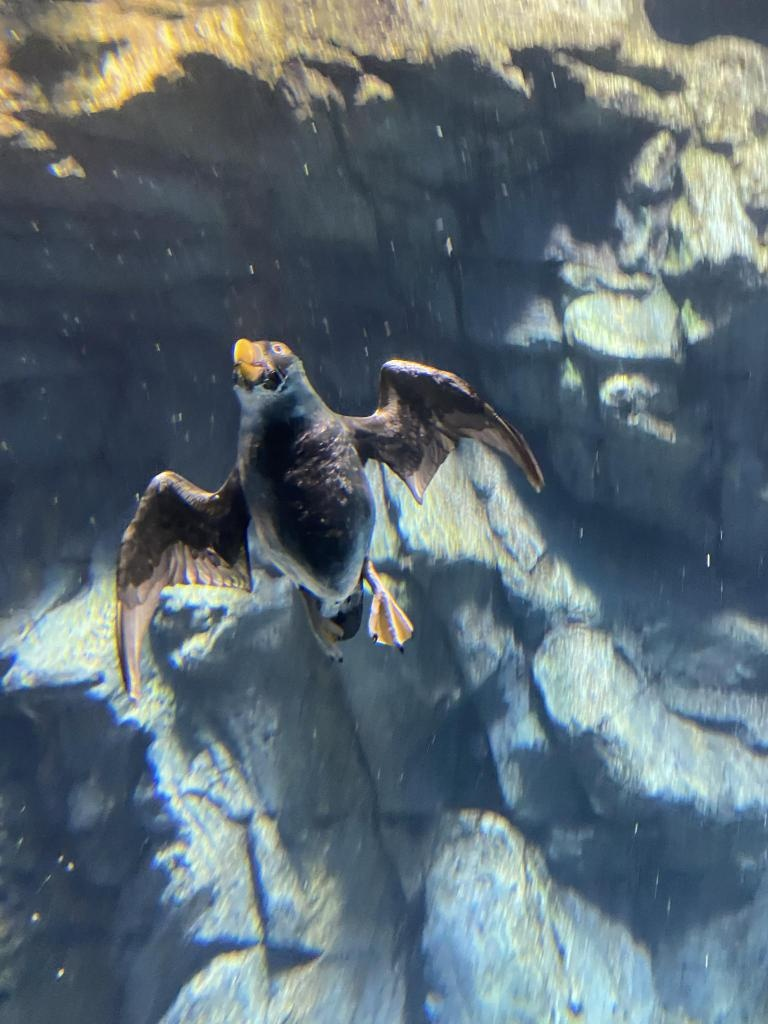puffin: (95, 310, 545, 704)
